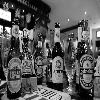beer: (52, 22, 65, 90)
